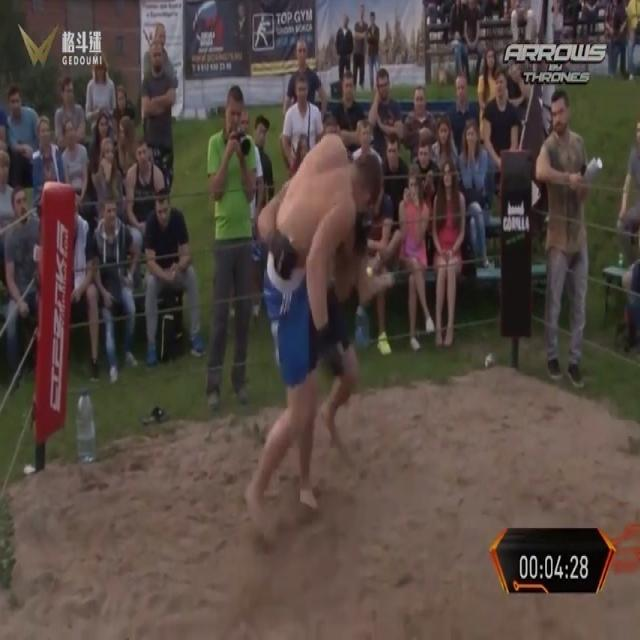fight: (244, 115, 385, 532)
non-fight: (203, 82, 268, 406), (534, 85, 594, 387), (143, 189, 196, 364), (88, 201, 136, 376), (425, 158, 469, 346)
